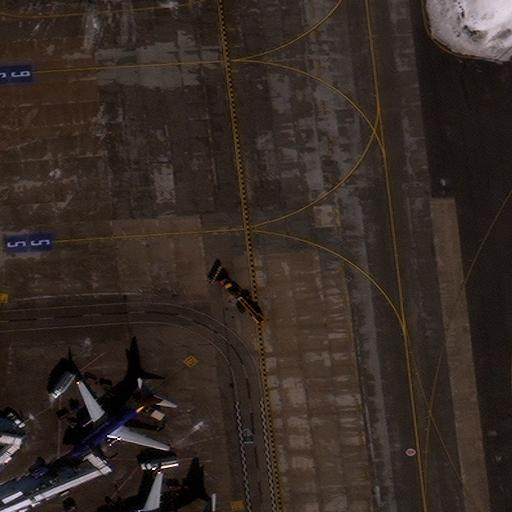Medium Civil Transport: (70, 383, 168, 456), (120, 472, 213, 512)
